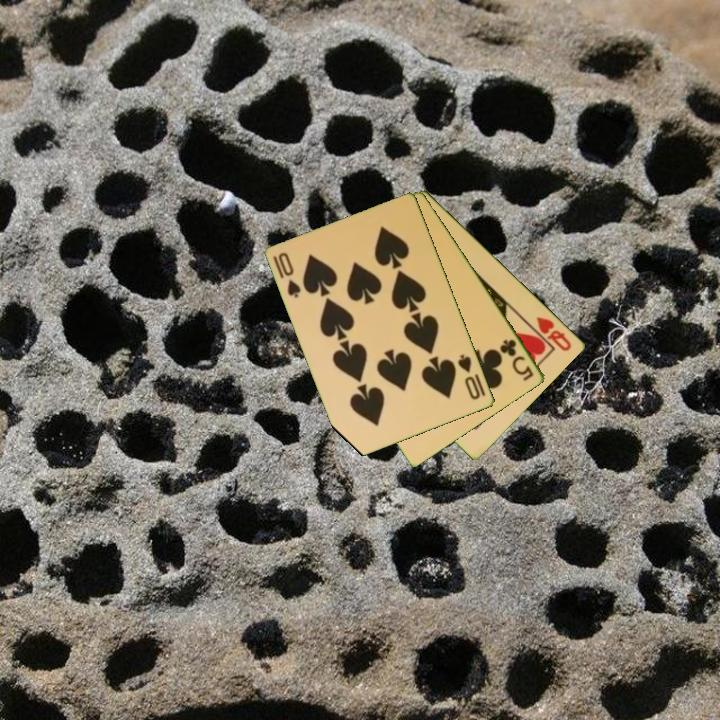10s: (270, 249, 304, 301), (454, 351, 484, 403)
5c: (497, 335, 537, 384)
Qh: (533, 313, 575, 354)
